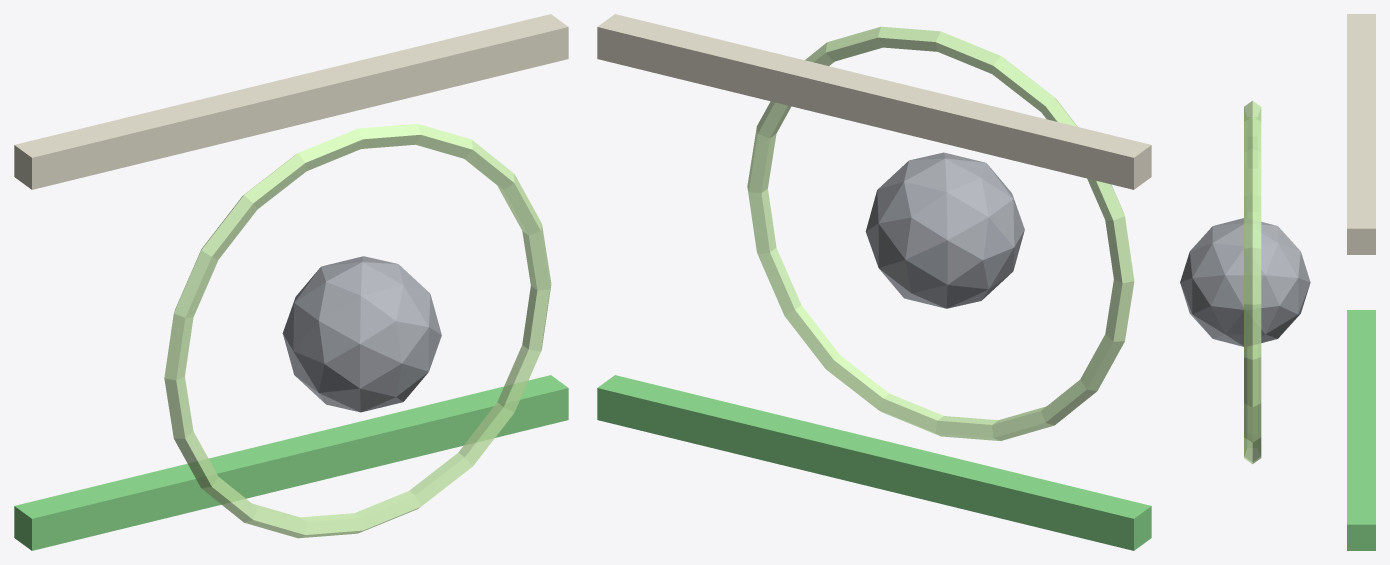
Rendered from 05_material_polish_overlay_5.glb.
3 views of the same model, side by side, from view 1: azimuth 30°, elevation 25°; view 2: azimuth 150°, elevation 25°; view 3: azimuth 270°, elevation 25° (orthographic). The views are drawn at different scales.
Parts seen in each view (by area): view 1: polished_trim_bar_b, polished_trim_bar_a, material_preview_ring, reflective_sample_core; view 2: polished_trim_bar_a, polished_trim_bar_b, material_preview_ring, reflective_sample_core; view 3: reflective_sample_core, polished_trim_bar_a, polished_trim_bar_b, material_preview_ring.
Boxes of the visible parts, x1=… form: polished_trim_bar_b: x1=14, y1=14, x2=568, y2=189; polished_trim_bar_a: x1=14, y1=375, x2=568, y2=550; material_preview_ring: x1=164, y1=124, x2=551, y2=538; reflective_sample_core: x1=282, y1=256, x2=441, y2=412; polished_trim_bar_a: x1=597, y1=375, x2=1151, y2=550; polished_trim_bar_b: x1=597, y1=14, x2=1151, y2=189; material_preview_ring: x1=747, y1=26, x2=1134, y2=440; reflective_sample_core: x1=865, y1=152, x2=1024, y2=308; reflective_sample_core: x1=1180, y1=218, x2=1310, y2=346; polished_trim_bar_a: x1=1347, y1=310, x2=1375, y2=550; polished_trim_bar_b: x1=1347, y1=14, x2=1375, y2=254; material_preview_ring: x1=1244, y1=100, x2=1261, y2=464.
Bounding box in the file's own units: 1.4 × 1.01 × 0.54.
